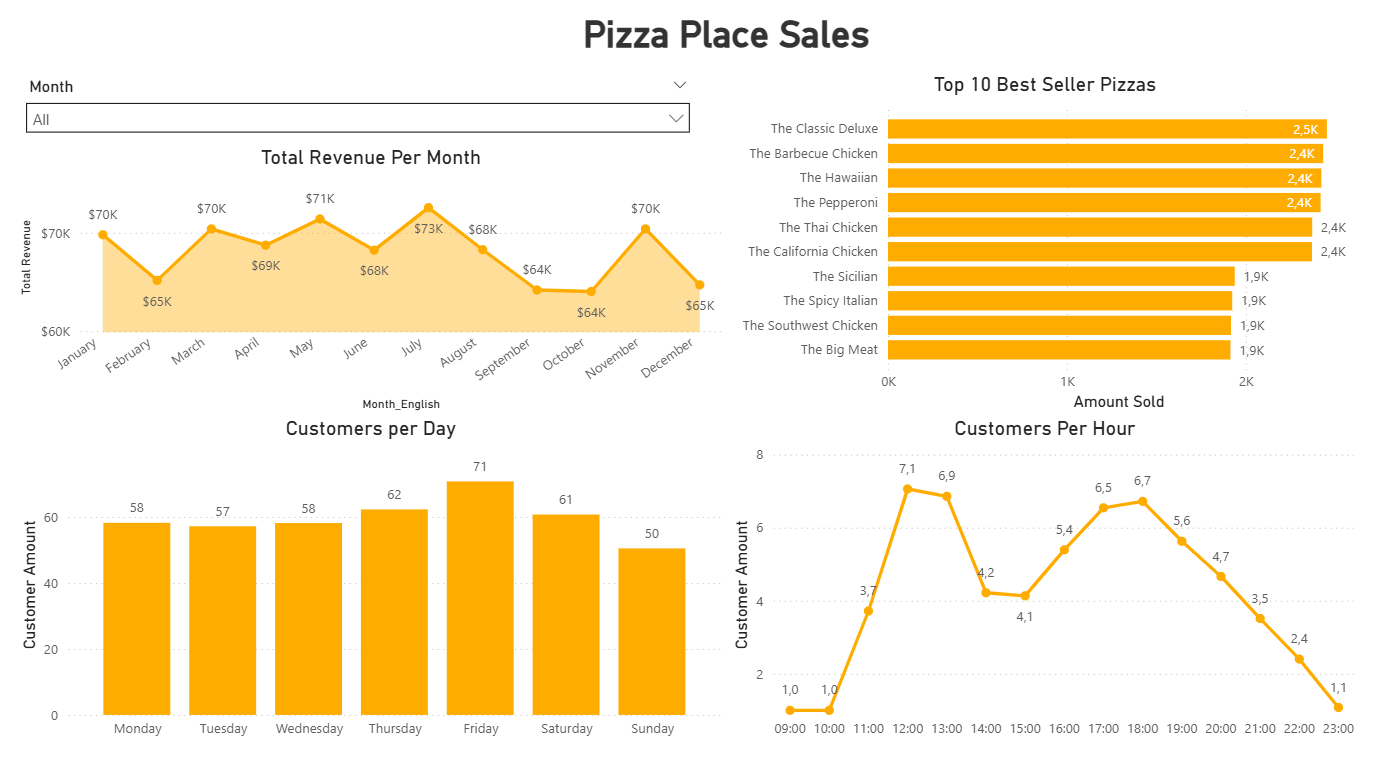

This screenshot's page, from the dashboard's own definition file:
{"tool":"powerbi","page":{"name":"Página 1","canvas":[1280,720],"ordinal":0},"visuals":[{"type":"clusteredColumnChart","title":"Customers per Day","fields":{"Category":["orders.Nome do Dia"],"Y":["MEDIDAS.Cliente_dia"]},"box":[18.1,383.6,645.6,301.1],"z":0},{"type":"lineChart","title":"Customers Per Hour","fields":{"Y":["MEDIDAS.client_day"],"Category":["orders.hour_format"]},"box":[663.8,383.6,576.7,301.1],"z":1000},{"type":"clusteredBarChart","title":"Top 10 Best Seller Pizzas","fields":{"Y":["MEDIDAS.total_pizza_sells"],"Category":["pizza_types.name"]},"box":[663.8,71.6,576.7,311.9],"z":2000},{"type":"areaChart","title":"Total Revenue Per Month","fields":{"Category":["orders.date.Variation.Hierarquia de datas.Mês"],"Y":["MEDIDAS.total_revenue"]},"box":[18.1,137.8,645.6,245.7],"z":3000},{"type":"slicer","fields":{"Values":["orders.date.Variation.Hierarquia de datas.Mês"]},"box":[18.1,71.6,622.1,66.2],"z":4000},{"type":"textbox","box":[515.1,12.7,296.5,69.8],"z":5000}]}

Visuals, with their boxes in screenshot pixels (x1, y1, x2, y2), scaled from the page's 1280x720 canvas onto the 1397x783 screenshot:
"Customers per Day" clusteredColumnChart: 20 417 724 745
"Customers Per Hour" lineChart: 724 417 1354 745
"Top 10 Best Seller Pizzas" clusteredBarChart: 724 78 1354 417
"Total Revenue Per Month" areaChart: 20 150 724 417
slicer - orders.date.Variation.Hierarquia de datas.Mês: 20 78 699 150
textbox: 562 14 886 90
